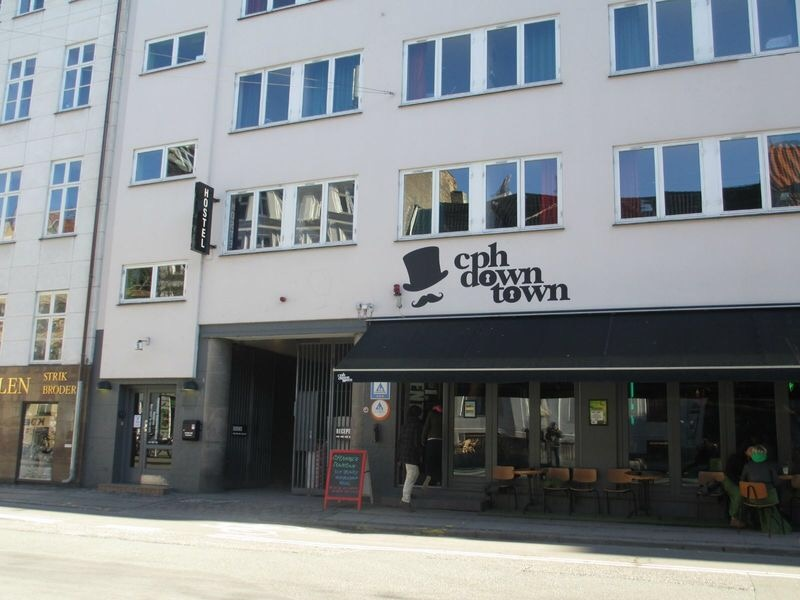text: (199, 188, 214, 250), (454, 252, 469, 289), (470, 252, 485, 289), (486, 252, 501, 289), (502, 252, 517, 289), (518, 252, 533, 289), (534, 252, 549, 289), (332, 455, 347, 486), (348, 455, 363, 486), (449, 242, 464, 270), (465, 242, 480, 270), (481, 242, 496, 270), (497, 242, 512, 270), (482, 282, 497, 304), (498, 282, 513, 304), (514, 282, 529, 304), (530, 282, 545, 304), (546, 282, 561, 304), (562, 282, 577, 304), (1, 379, 16, 396), (17, 379, 32, 396), (36, 386, 51, 396), (52, 386, 67, 396), (68, 386, 83, 396), (40, 373, 55, 383), (56, 373, 71, 383), (375, 384, 390, 394), (374, 402, 389, 411)
